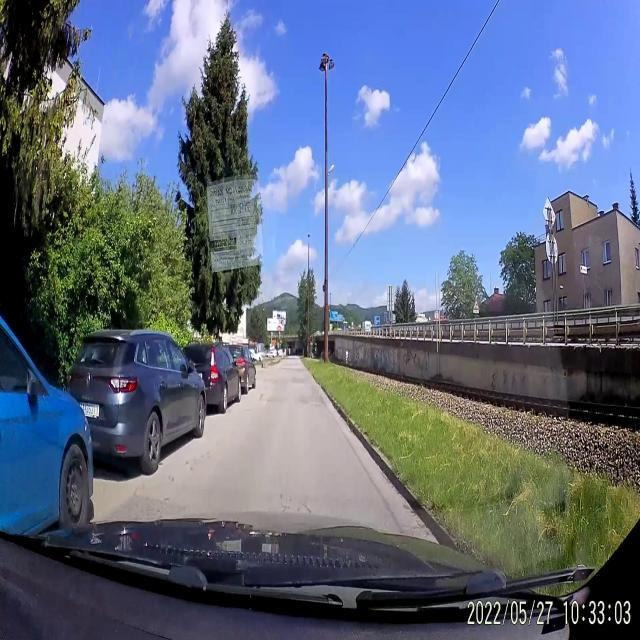Pothole: (294, 391, 324, 408), (258, 388, 286, 406), (291, 372, 308, 386)
